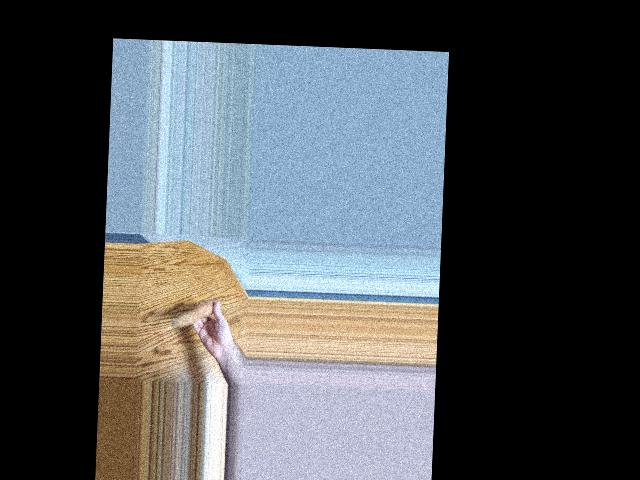sweet_potato: (169, 297, 222, 334)
